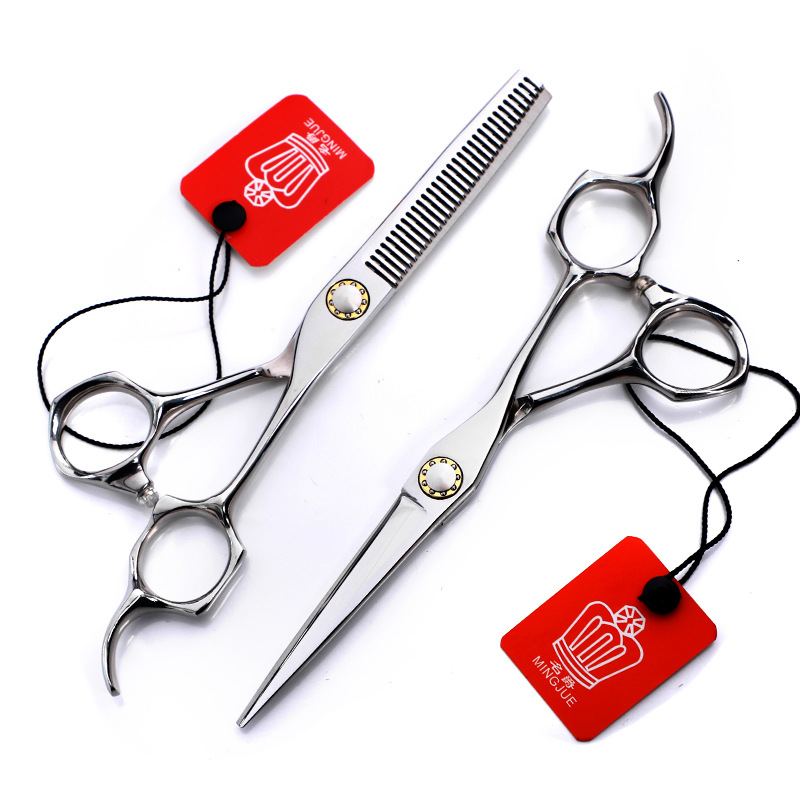scissors: (218, 87, 759, 735), (29, 61, 559, 700)
